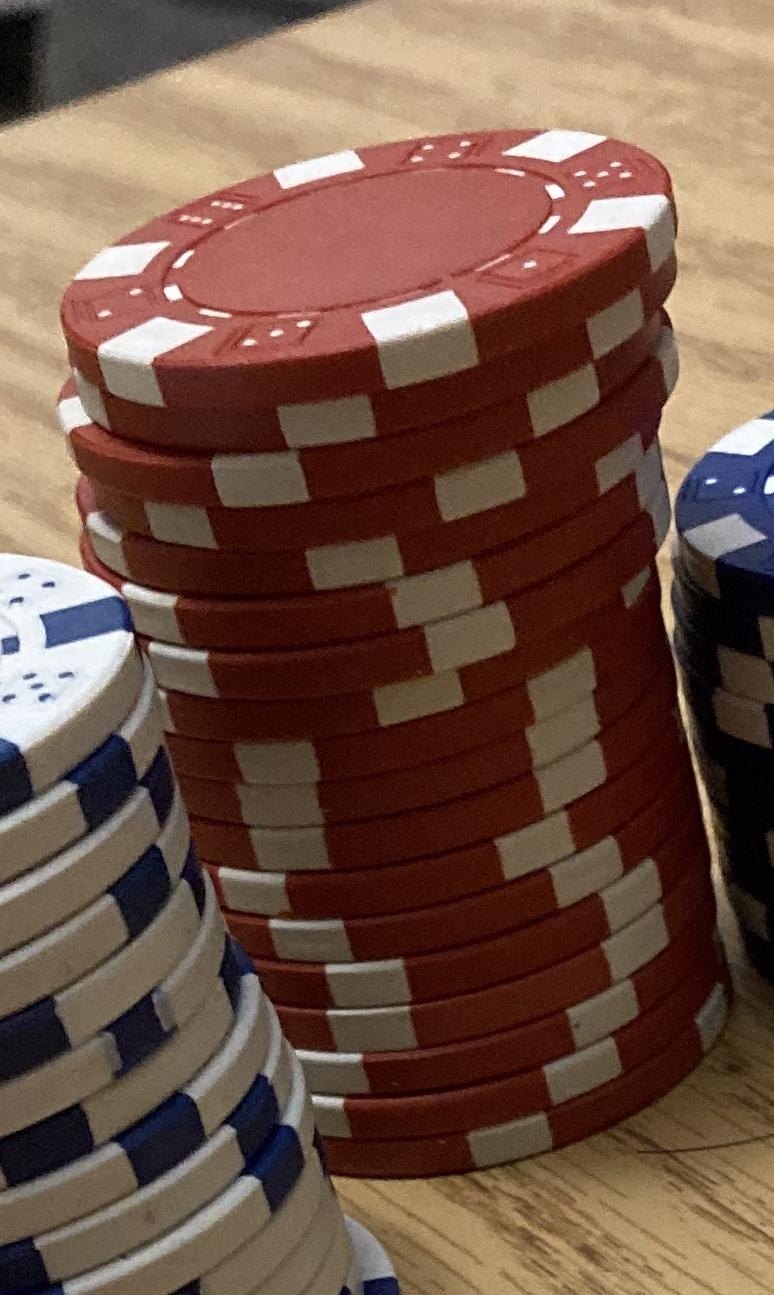Chip: (1, 1, 774, 1295)
